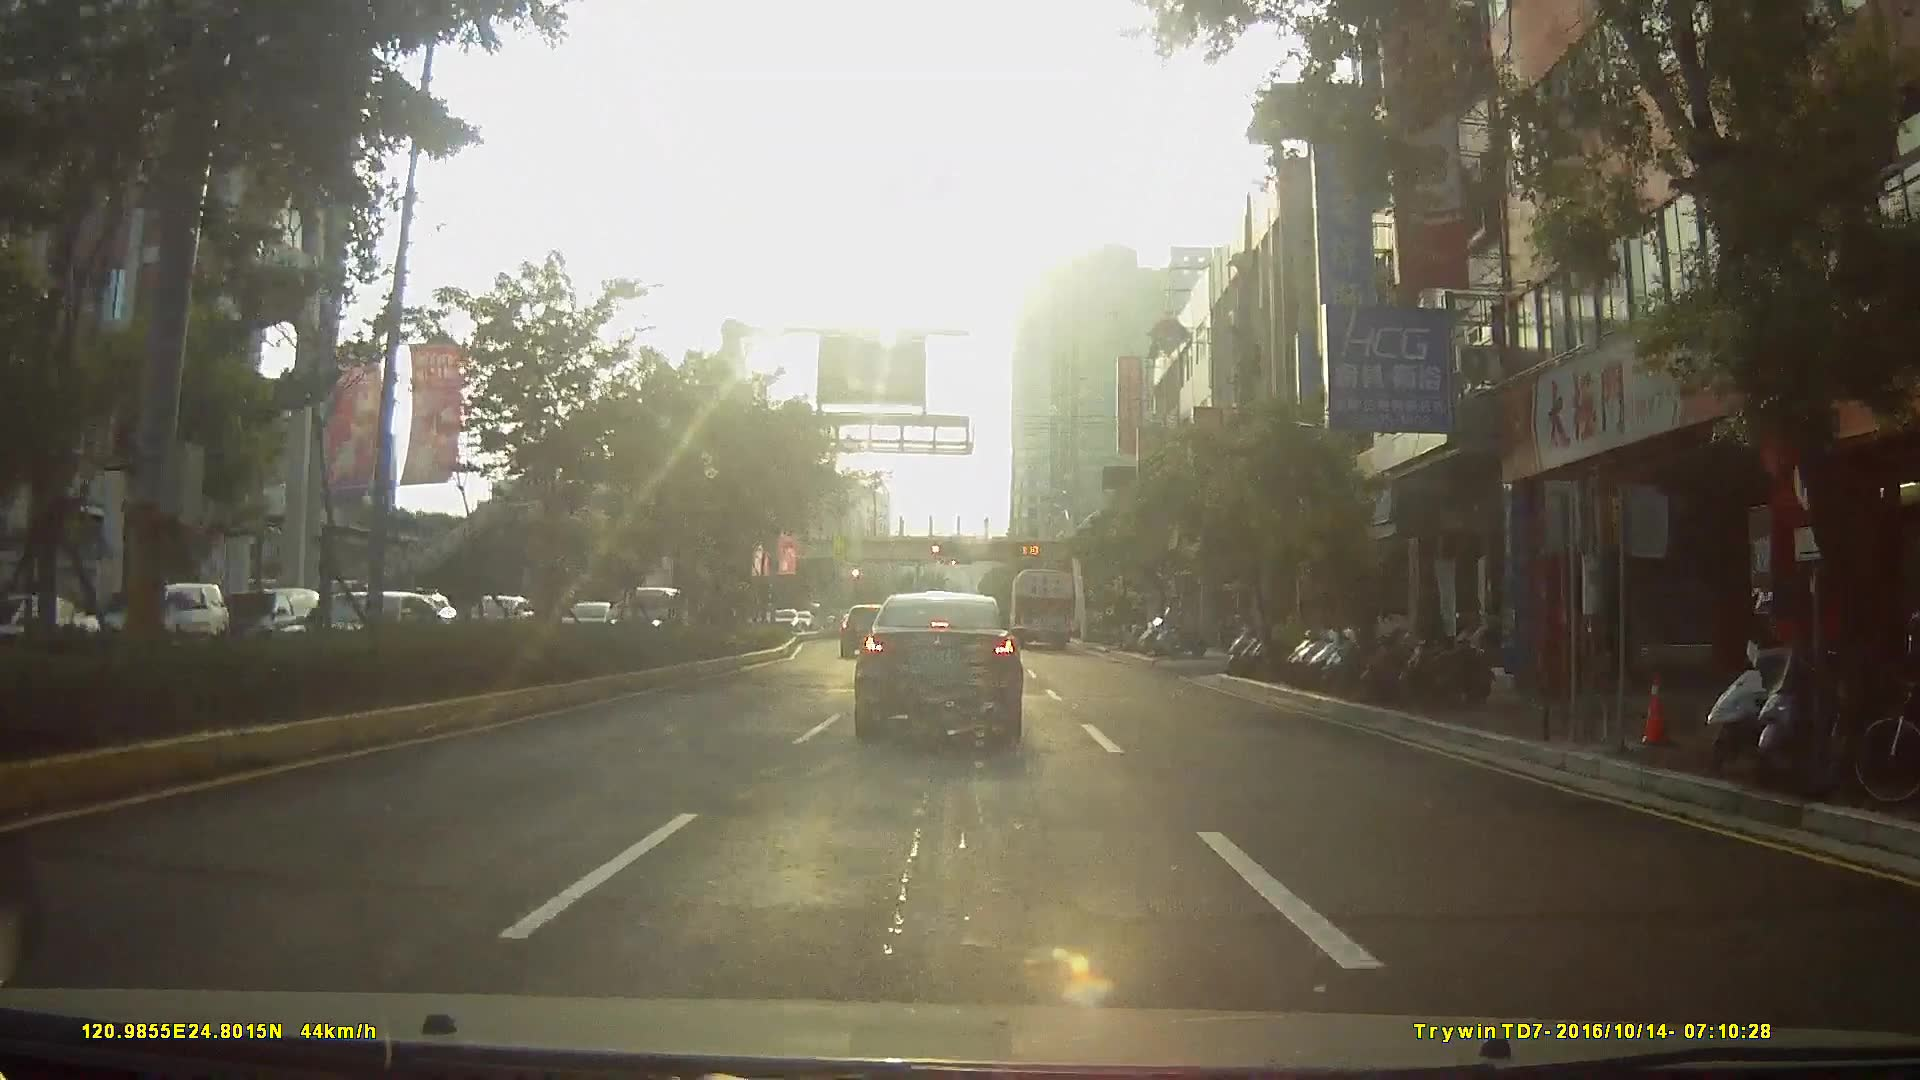vehicle: (853, 593, 1025, 744), (90, 582, 222, 655), (210, 588, 324, 651), (1007, 568, 1079, 651), (617, 584, 708, 642), (837, 604, 893, 658)
